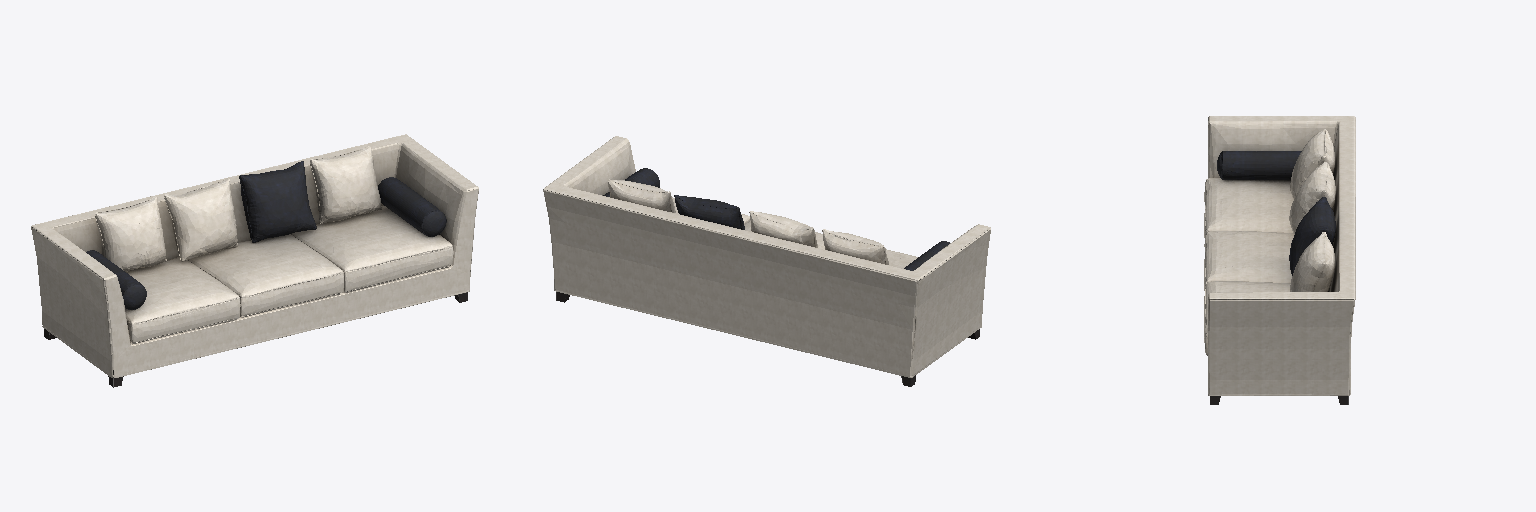
3 renders of one model, left to right at view 1: azimuth 30°, elevation 25°; view 2: azimuth 150°, elevation 25°; view 3: azimuth 270°, elevation 25°, orthographic.
Visible parts, largest first — view 1: solid_002, solid_001; view 2: solid_002, solid_001; view 3: solid_002, solid_001.
Part boxes in pixels (bbox=[...]): solid_002: bbox=[31, 134, 478, 377]; solid_001: bbox=[86, 161, 446, 309]; solid_002: bbox=[543, 136, 990, 377]; solid_001: bbox=[603, 168, 949, 270]; solid_002: bbox=[1204, 116, 1355, 395]; solid_001: bbox=[1217, 151, 1335, 275].
Size of the model in its own units: 2 by 0.6379 by 0.6952.
Materials: 1 (1 with a texture image).